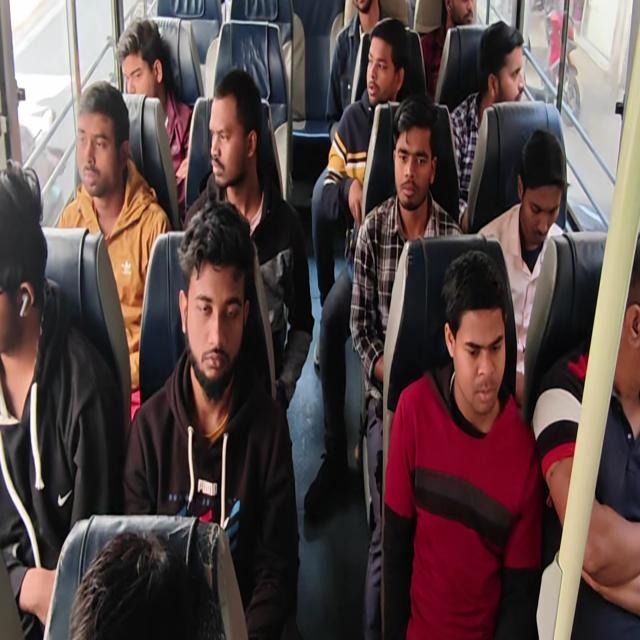person: (176, 195, 259, 413), (59, 533, 226, 640), (439, 239, 514, 433), (1, 151, 52, 360), (199, 74, 275, 211), (74, 78, 136, 209), (391, 86, 444, 223), (514, 126, 568, 248), (607, 226, 640, 395), (480, 17, 541, 100), (112, 7, 167, 95), (360, 19, 411, 109), (441, 0, 489, 68), (349, 0, 385, 19)
